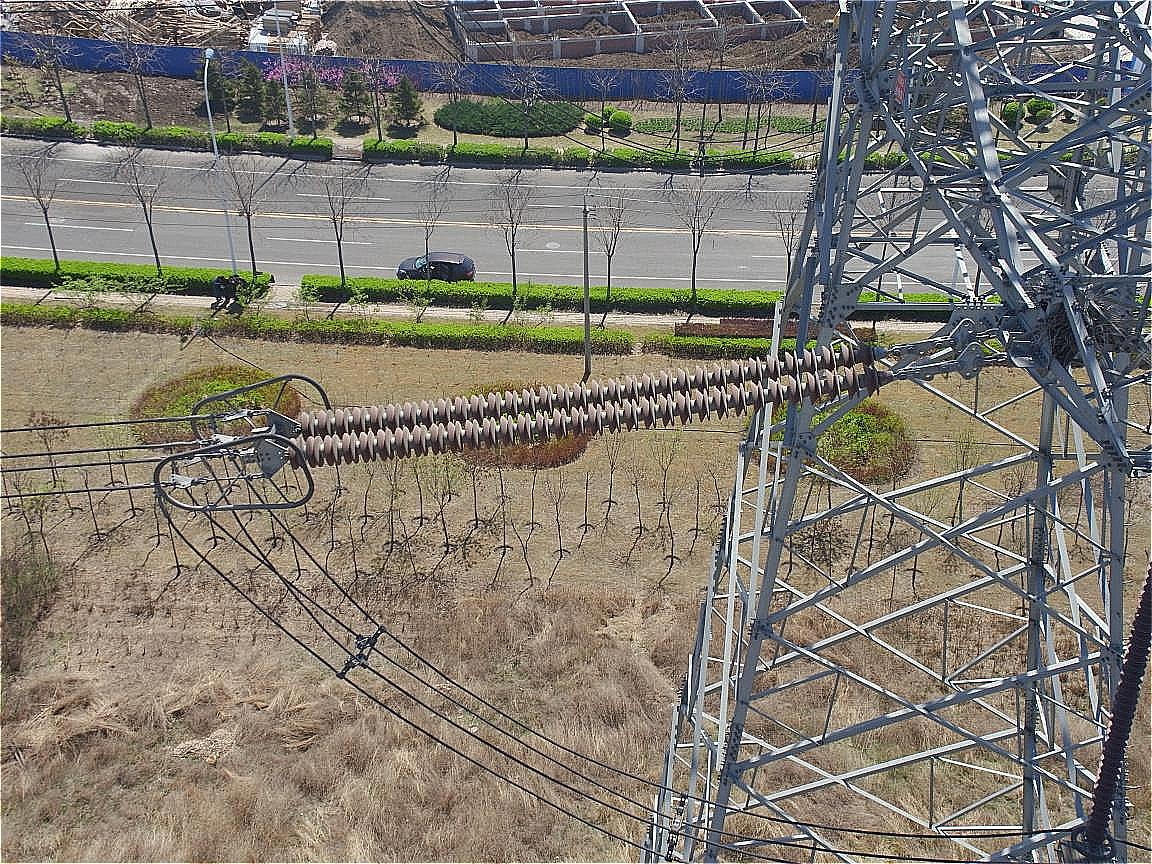insultor2: (272, 323, 898, 463)
